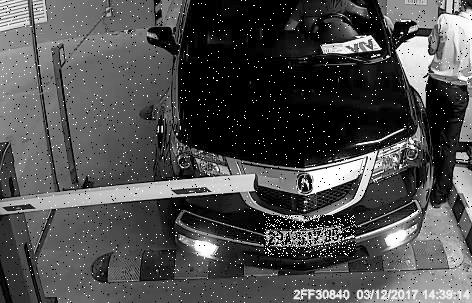License-plate: (266, 217, 358, 259)
